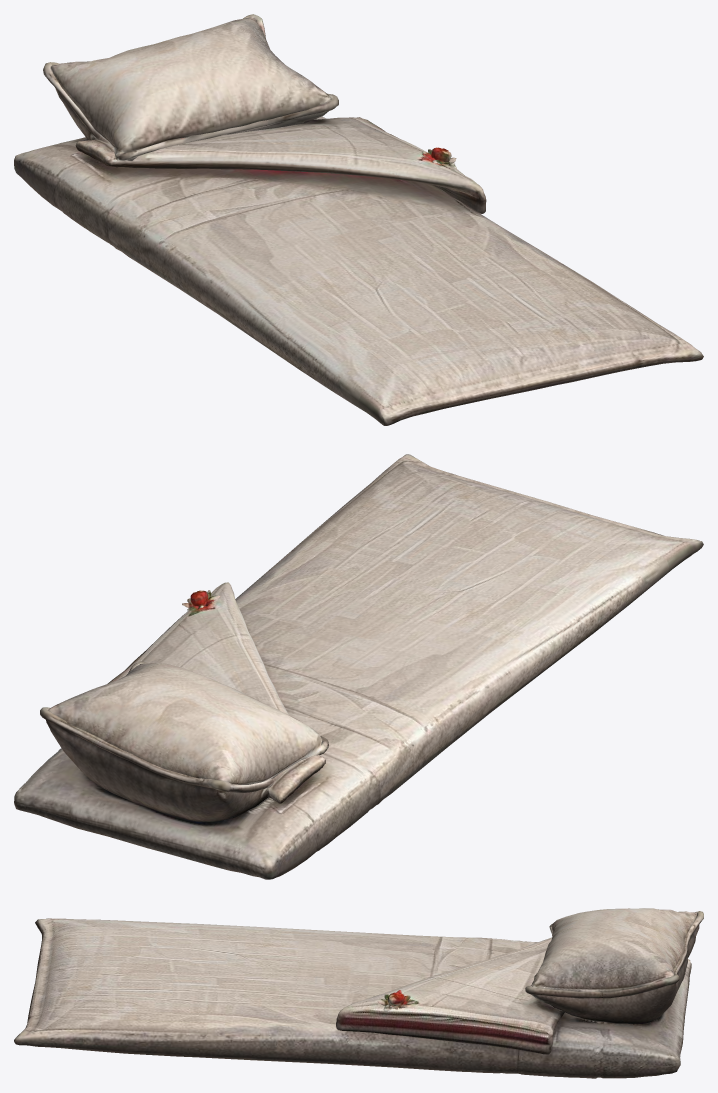
File: act1-a24-4-turned-down-coverlet.glb
3 renders of one model, top to bottom at view 1: azimuth 30°, elevation 25°; view 2: azimuth 150°, elevation 25°; view 3: azimuth 270°, elevation 25°, orthographic. The views are drawn at different scales.
Visible parts, largest first — view 1: act1-a24-4-turned-down-coverlet; view 2: act1-a24-4-turned-down-coverlet; view 3: act1-a24-4-turned-down-coverlet.
Part boxes in pixels (x1,y1,x2,y2): act1-a24-4-turned-down-coverlet: (14,14,703,425); act1-a24-4-turned-down-coverlet: (14,454,703,879); act1-a24-4-turned-down-coverlet: (14,908,703,1078).
Size of the model in its own units: 1.14 by 0.505 by 2.72.
1 material, 1 textured.
